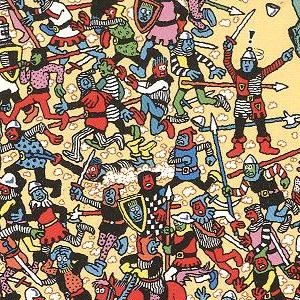Odlaw: (130, 141, 138, 159)
